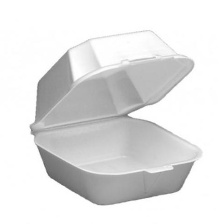foam_box: (23, 23, 206, 208)
